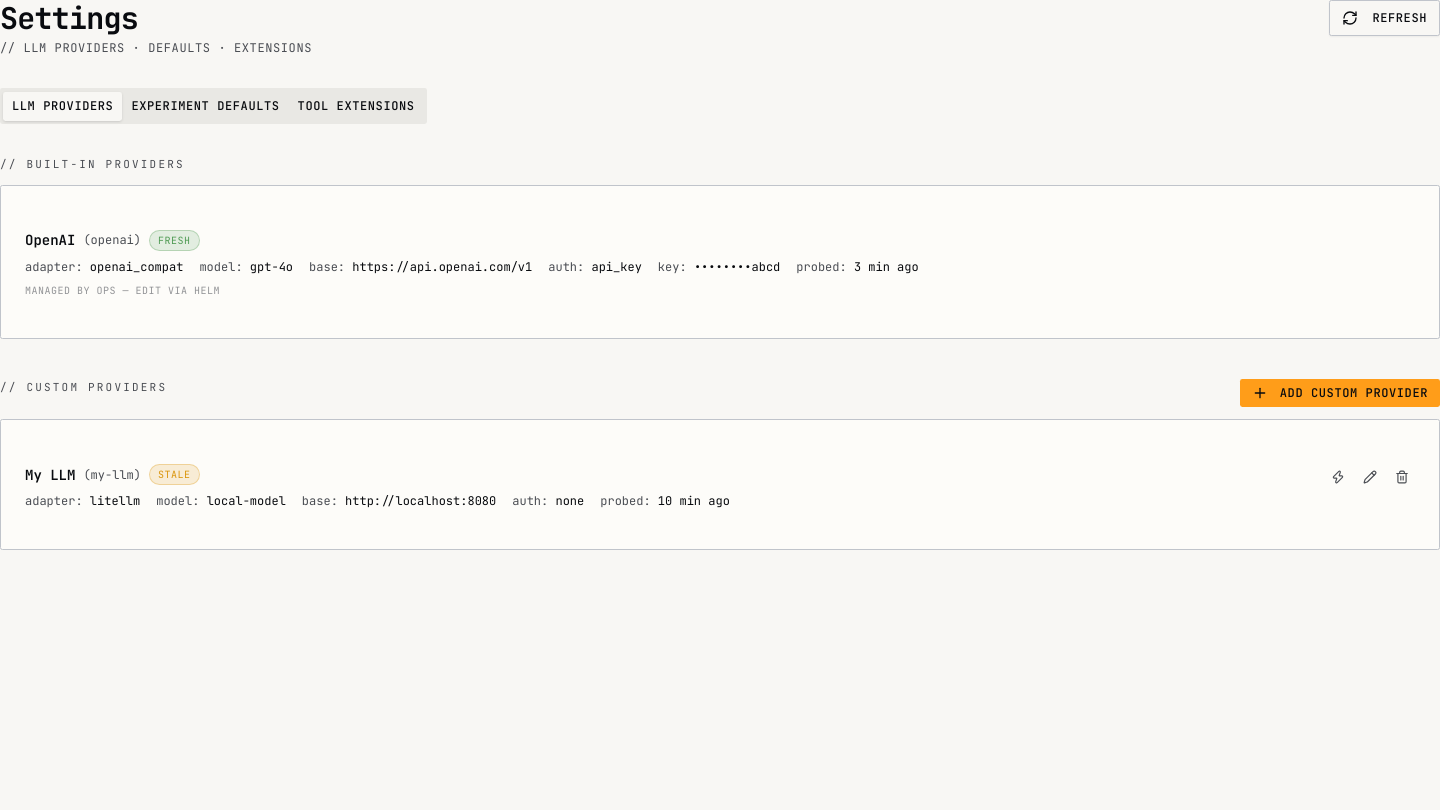
Test: ProvidersPanel — Add modal › opens modal when "Add Custom Provider" button is clicked
The image size is (1440, 810).
Check: the text "My LLM" is shown, box [25,464,75,484]
Click the button "Add Custom Provider" at [1340, 393], box [1240,379,1439,407]
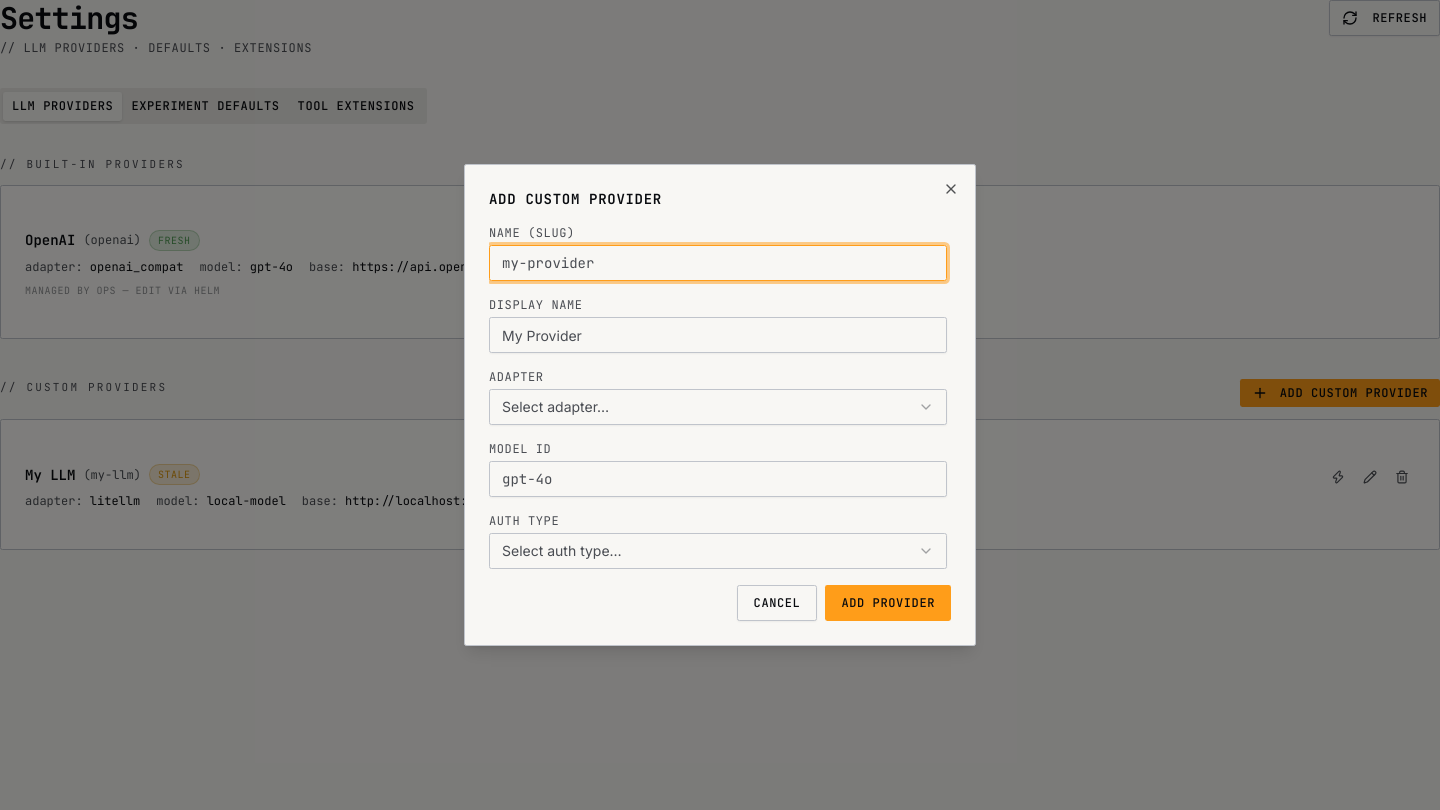
Check: the dialog is shown, box [464,164,976,646]
